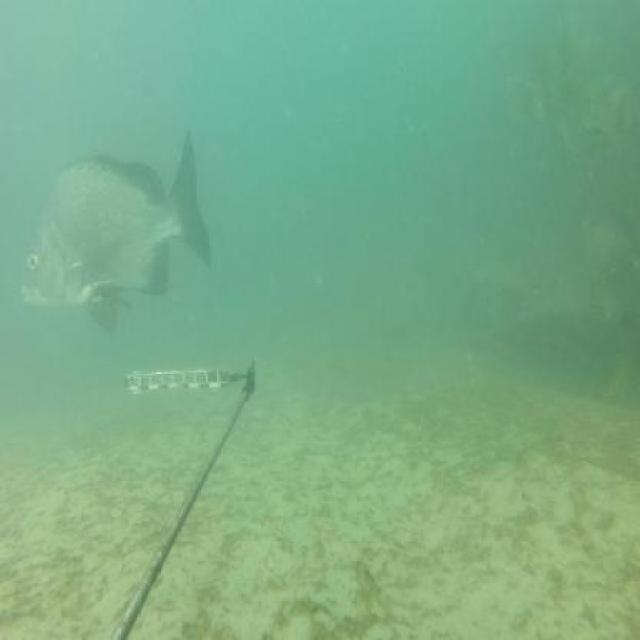acanthopagrus_palmaris: (21, 127, 214, 336)
